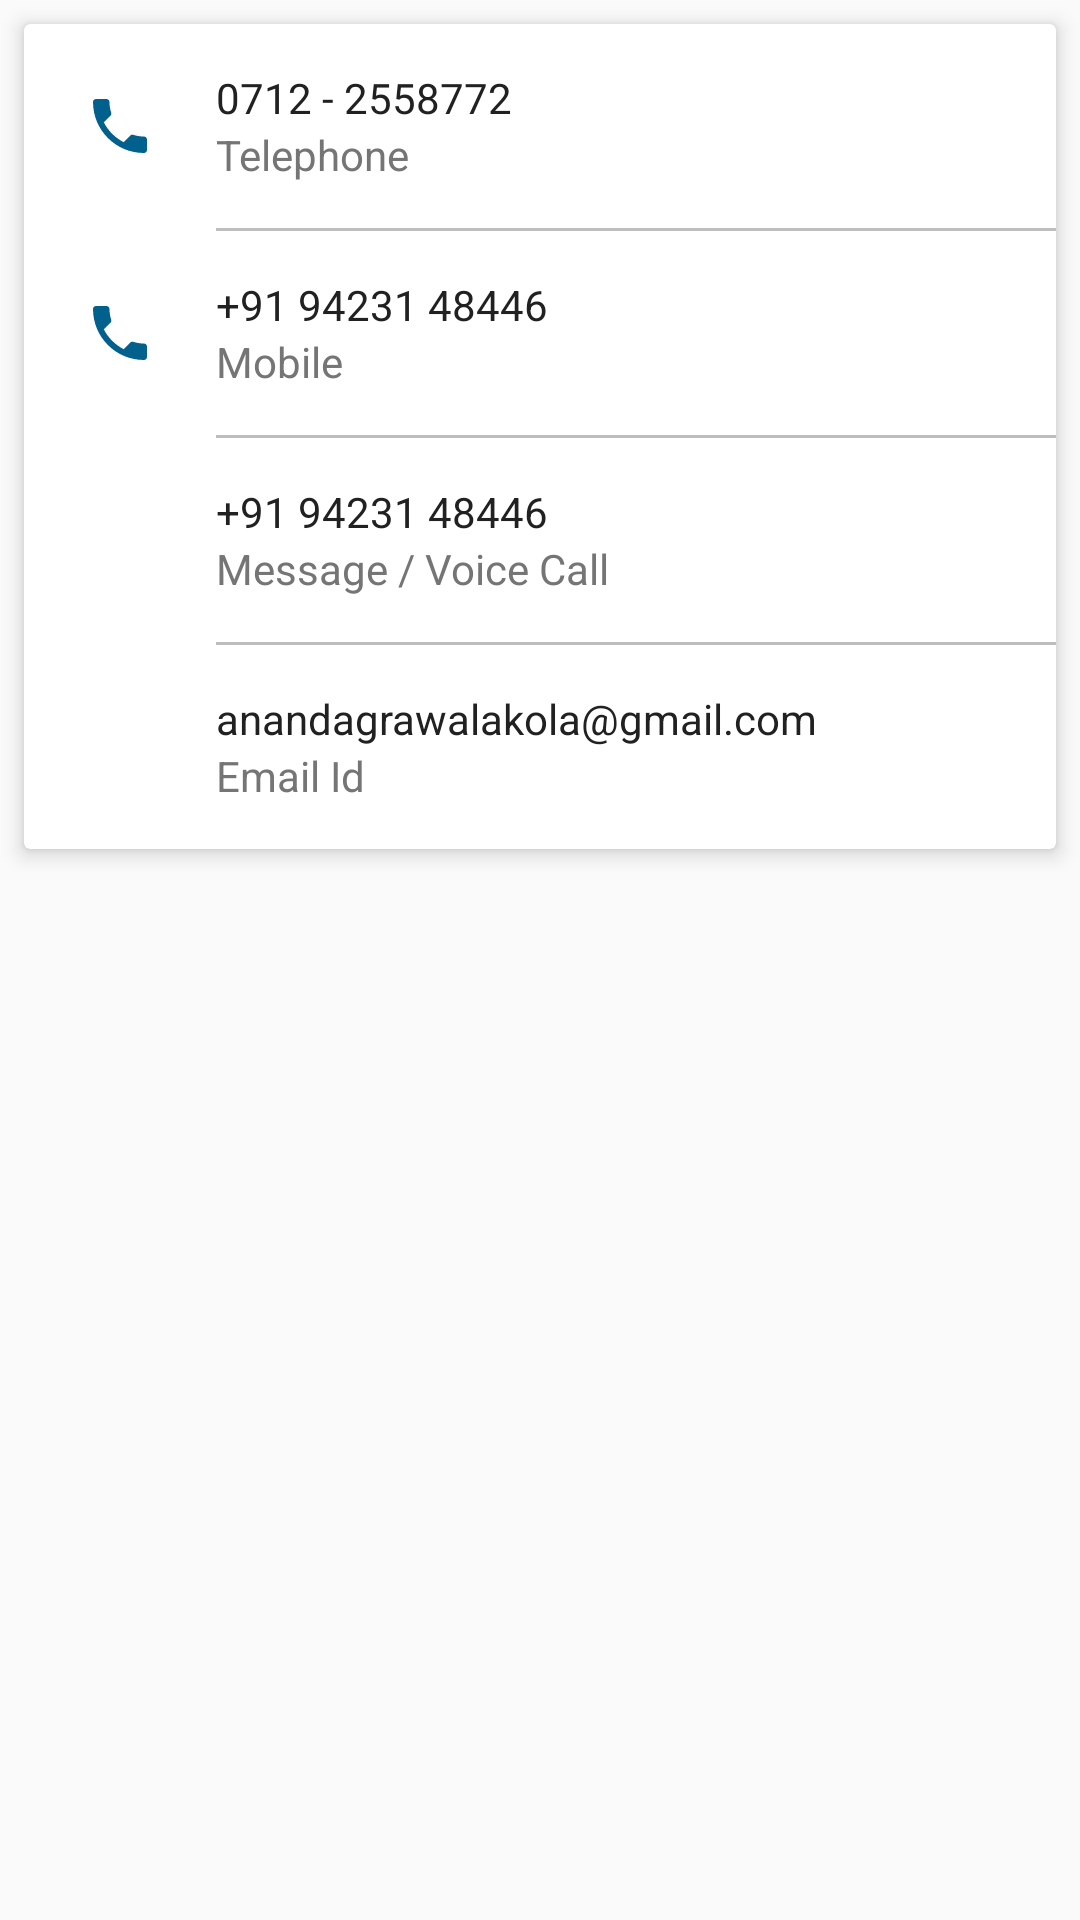

Where icons sit on this 1080w x 1920h app screen, as (left=x1, top=y1, right=x2, bottom=y2):
call: (left=93, top=99, right=147, bottom=153), (left=93, top=306, right=147, bottom=360)
